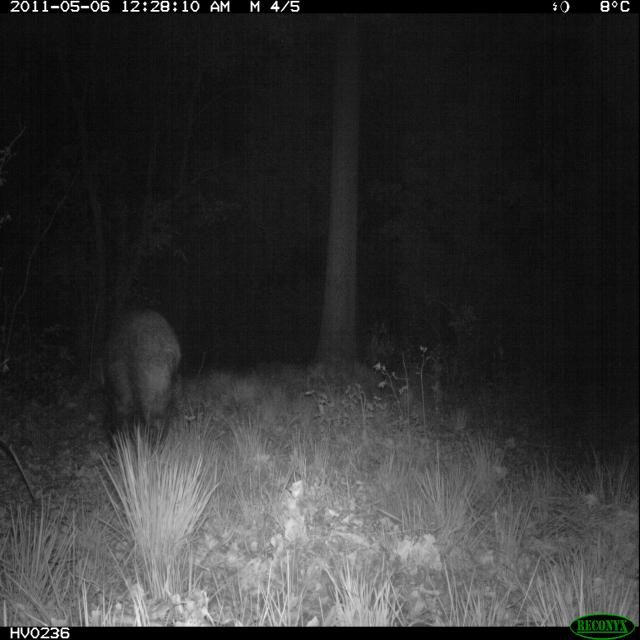boar: (76, 286, 209, 461)
